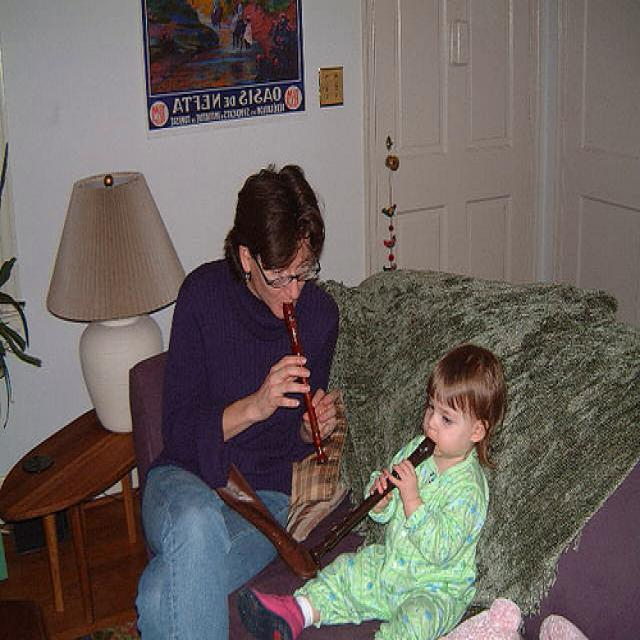adult: (132, 162, 343, 640)
child: (235, 342, 508, 640)
